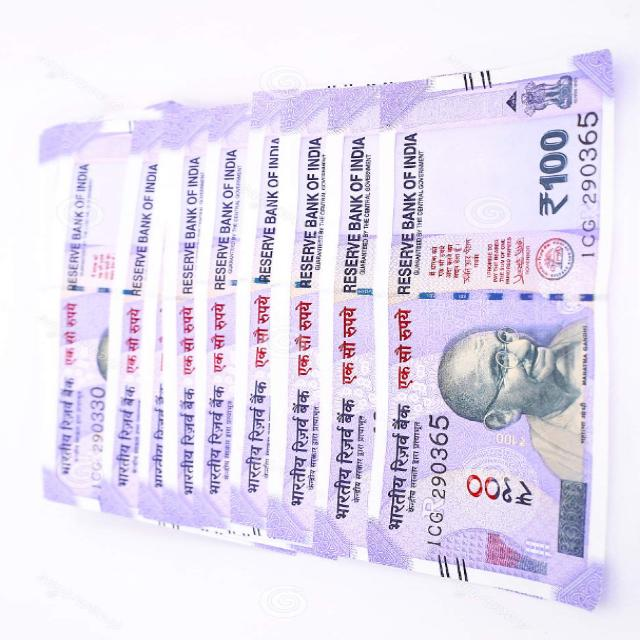100IndianRupees: (358, 53, 610, 614), (370, 88, 628, 321), (372, 321, 593, 586)
